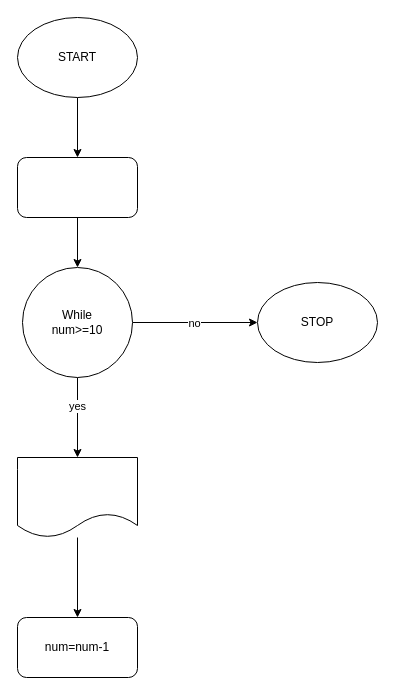
This 395x695 diagram has some shape labels left out. The shapes that lost their labels are listed below. From the top down, each one's centre as x and y in pixels, then its label:
At (77,187): "num=15".
At (77,497): "num".
